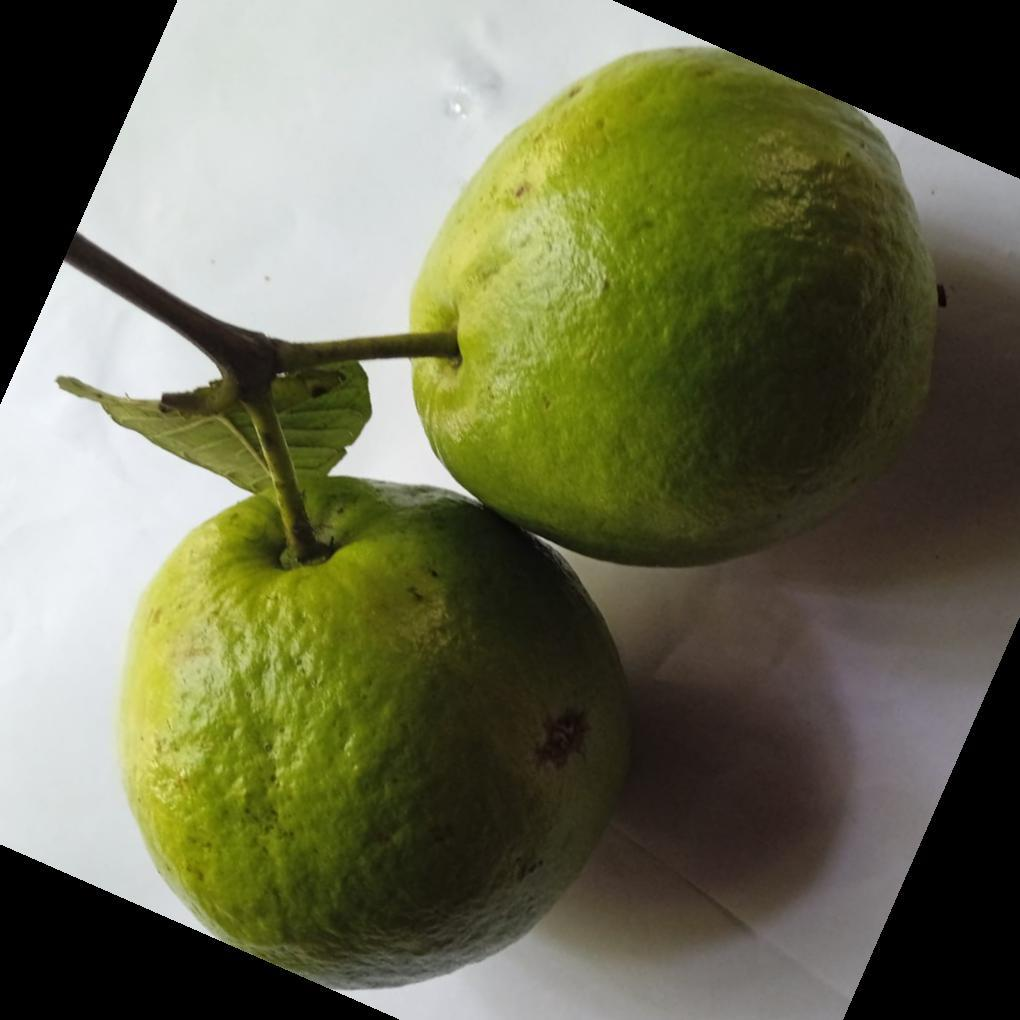FreshGuava: (52, 41, 942, 997)
